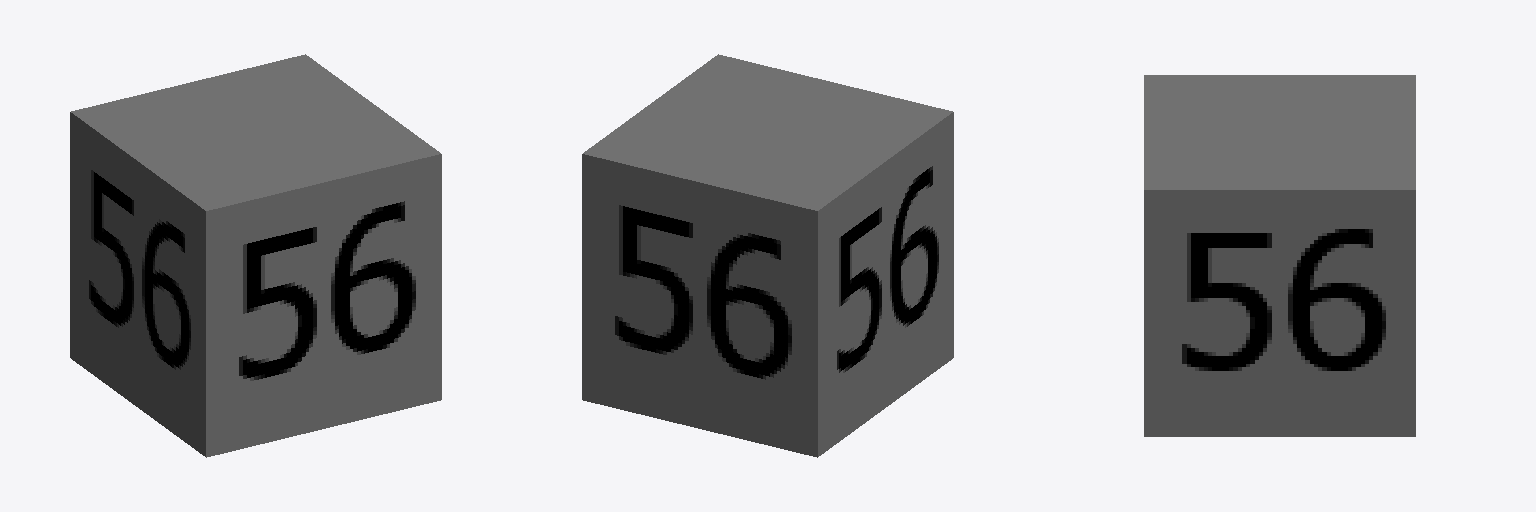
The picture shows the model from 3 angles: view 1: azimuth 30°, elevation 25°; view 2: azimuth 150°, elevation 25°; view 3: azimuth 270°, elevation 25°; orthographic projection.
Size of the model in its own units: 1 by 1 by 1.
1 materials, 1 textured.